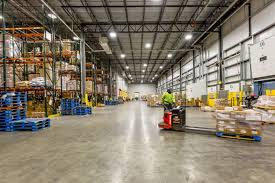Pallet Jack: (158, 101, 215, 137)
